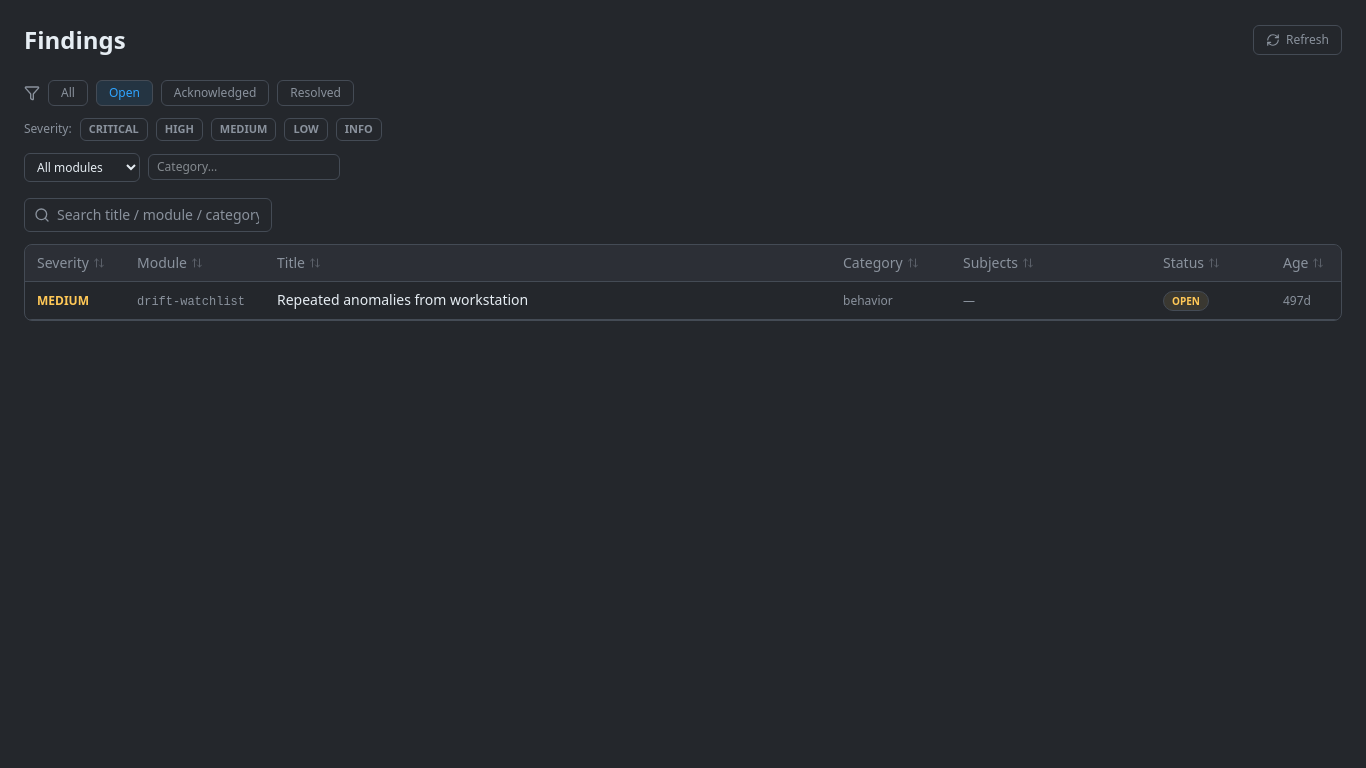
Test: FindingsPage › opens the detail view on row click without error
Click the text "Repeated anomalies from workstation".
click(403, 300)  # box [277,290,528,309]
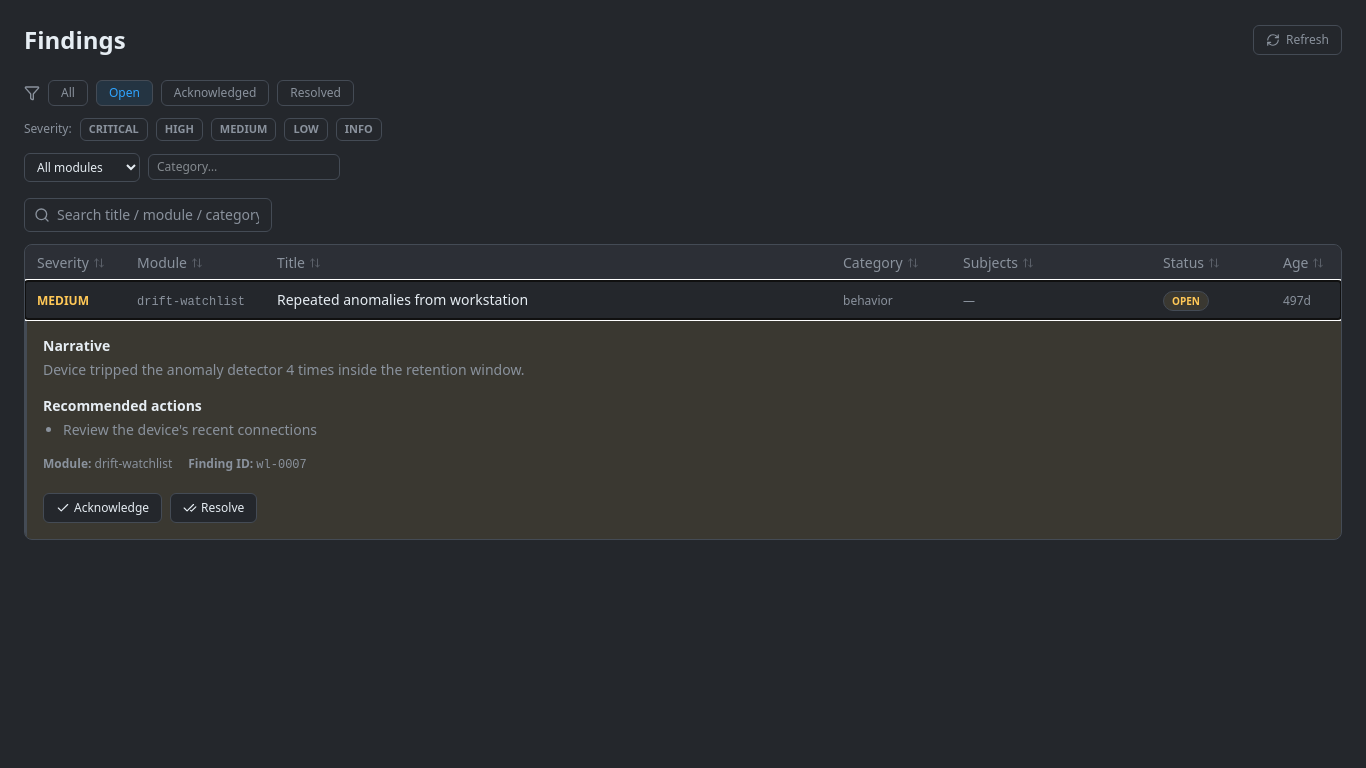
Now the text "tripped the anomaly detector 4 times" is shown, box [43,360,525,379]
Now the list item "Review the device's recent connections" is shown, box [63,420,317,439]
